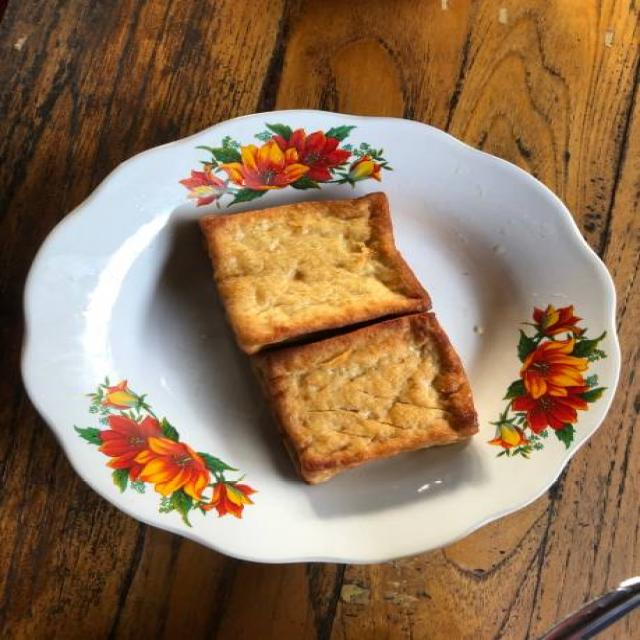Tofu Block: (262, 330, 480, 478), (202, 205, 422, 342)
